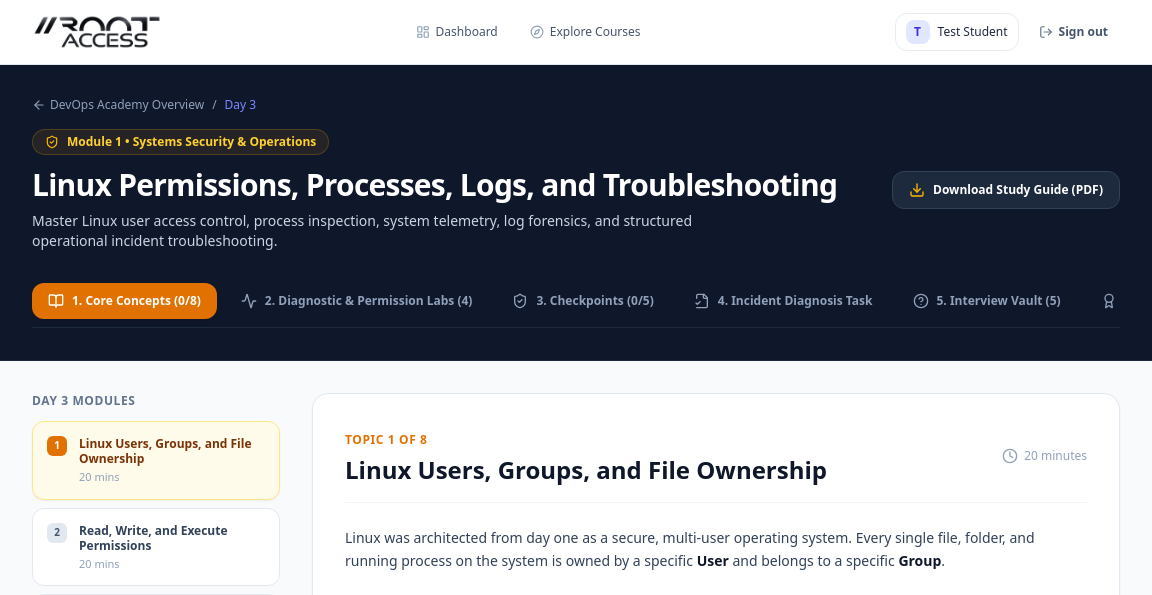
Test: DevOpsDay3LessonPage › renders Day 3 topics and switches to diagnostic labs when enrolled
Check: the heading "Linux Permissions, Processes, Logs, and Troubleshooting" is shown, box [32,167,837,203]
Switch to Diagnostic Labs Tab
Click the button "2. Diagnostic & Permission Labs (4)".
click(357, 301)  # box [225,283,488,319]
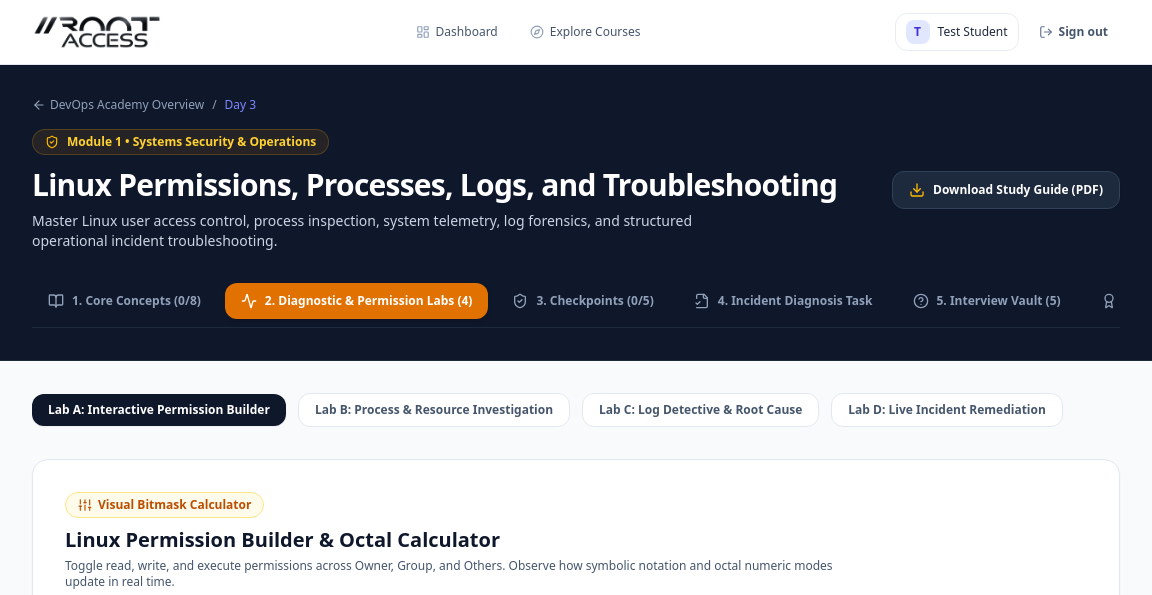
Check: the heading "Linux Permission Builder & Octal Calculator" is shown, box [65,526,500,553]
